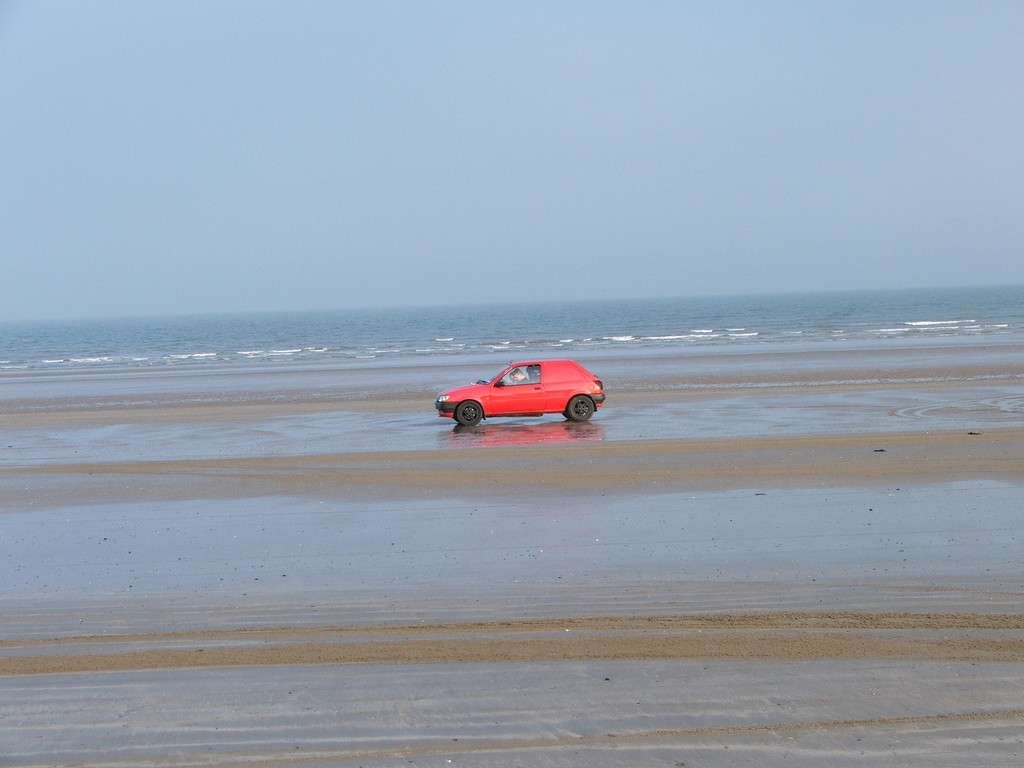mobil: (427, 352, 624, 434)
